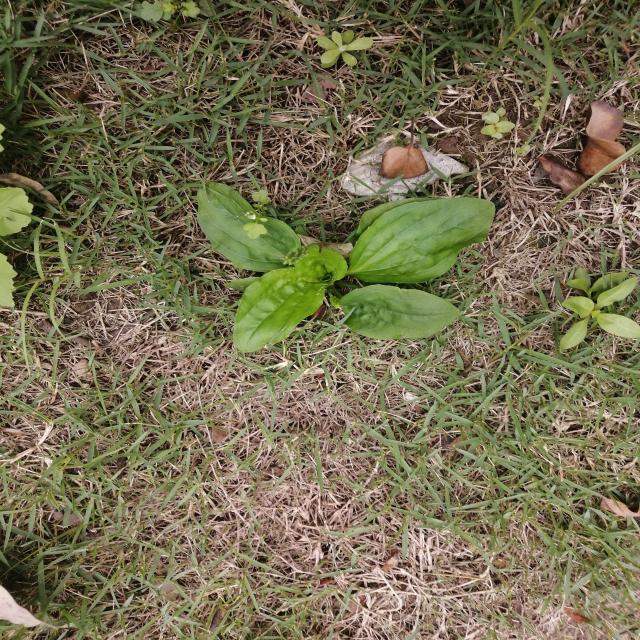plantain: (172, 162, 508, 372)
